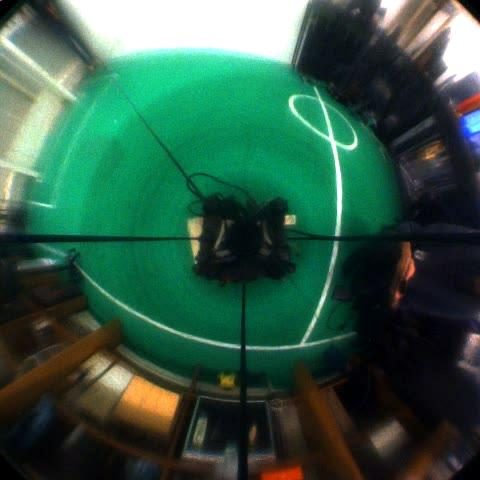ball: (215, 371, 237, 391)
goal: (0, 34, 75, 101)
person: (26, 1, 103, 73)
robot: (0, 197, 30, 235)
